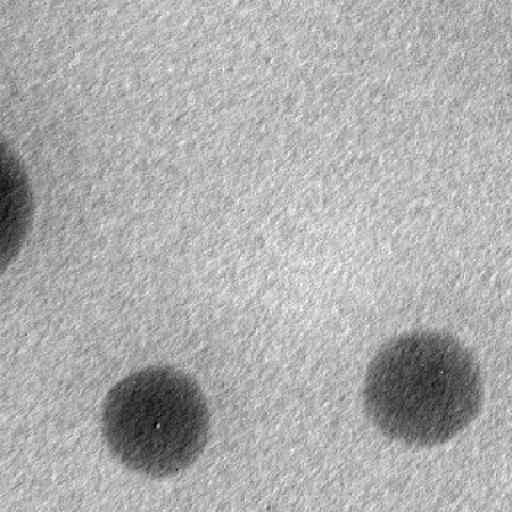Nanoparticles: (364, 328, 486, 449), (100, 359, 210, 480), (0, 134, 37, 293)
